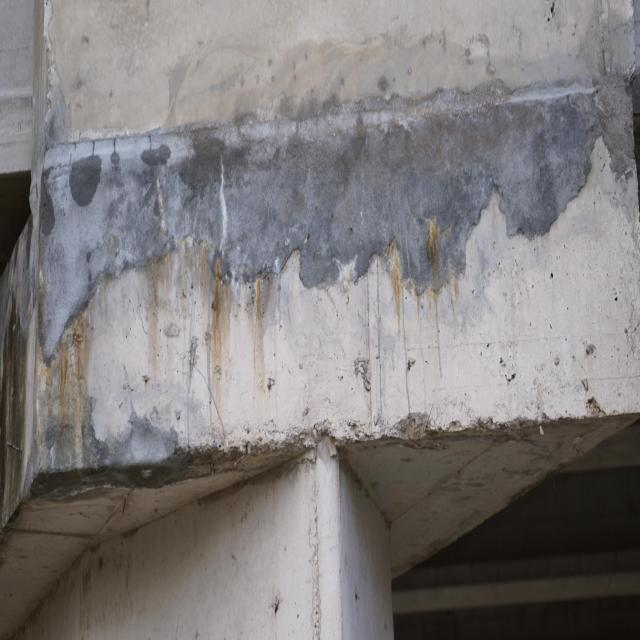diagonal crack: (136, 288, 225, 430)
